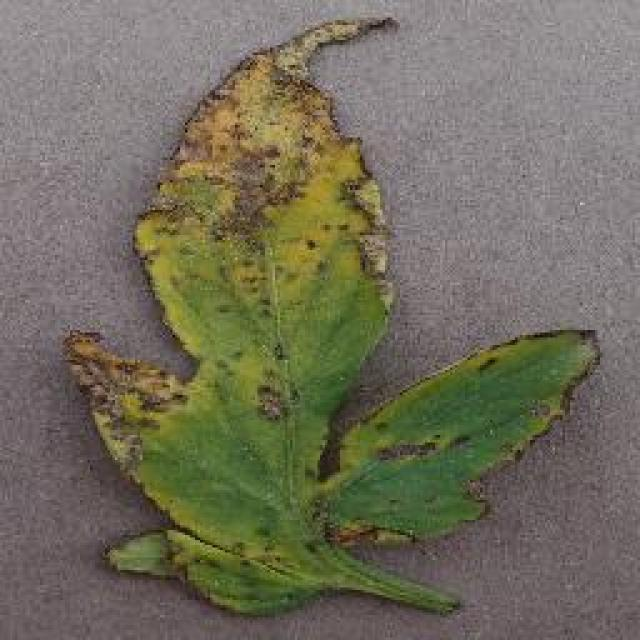Tomato___Bacterial_spot: (60, 20, 601, 622)
